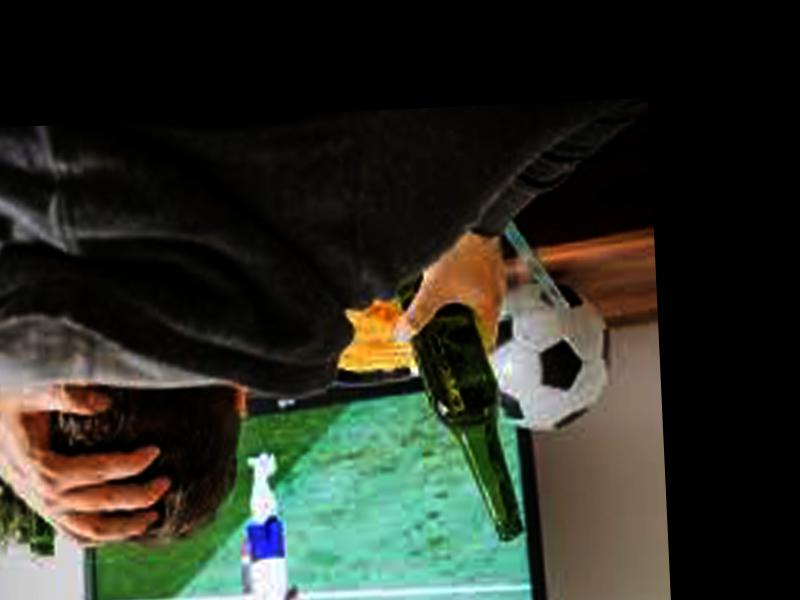Beer: (405, 264, 523, 544)
